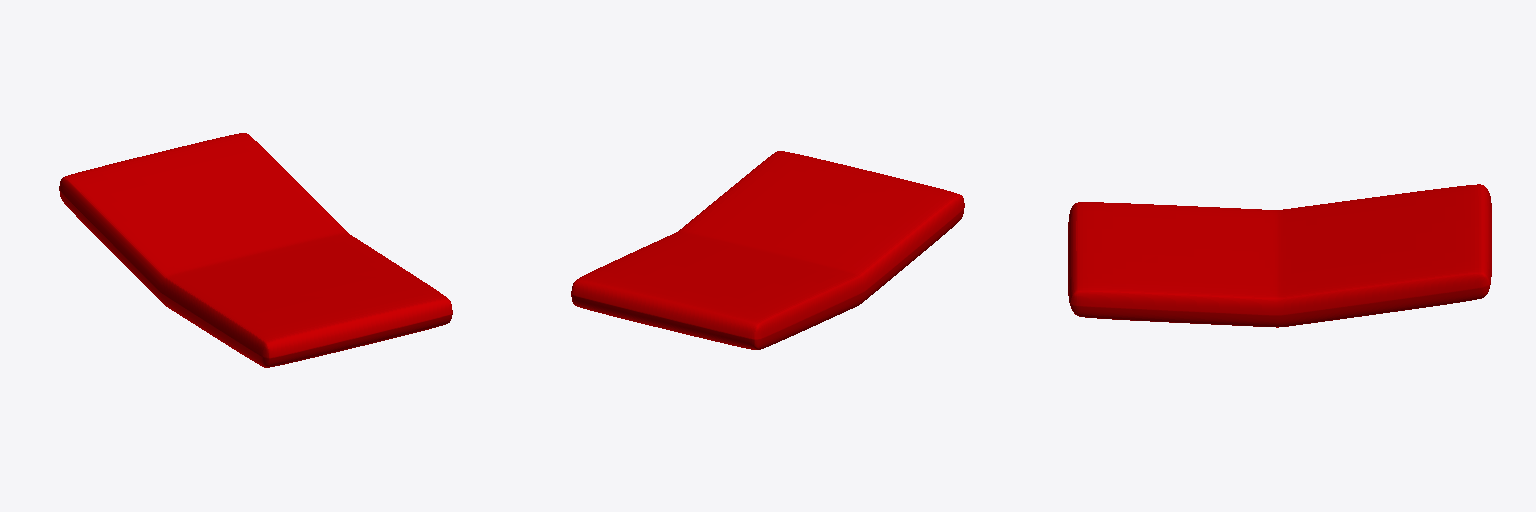
The model's file is clock_up_button.obj.
The picture shows the model from 3 angles: view 1: azimuth 30°, elevation 25°; view 2: azimuth 150°, elevation 25°; view 3: azimuth 270°, elevation 25°; orthographic projection.
Visible parts, largest first — view 1: pulsante_Plane; view 2: pulsante_Plane; view 3: pulsante_Plane.
Part boxes in pixels (x1,y1,x2,y2): pulsante_Plane: (59, 133, 452, 367); pulsante_Plane: (571, 151, 964, 349); pulsante_Plane: (1068, 184, 1491, 327).
Bounding box in the file's own units: 0.1089 × 0.0316 × 0.2088.